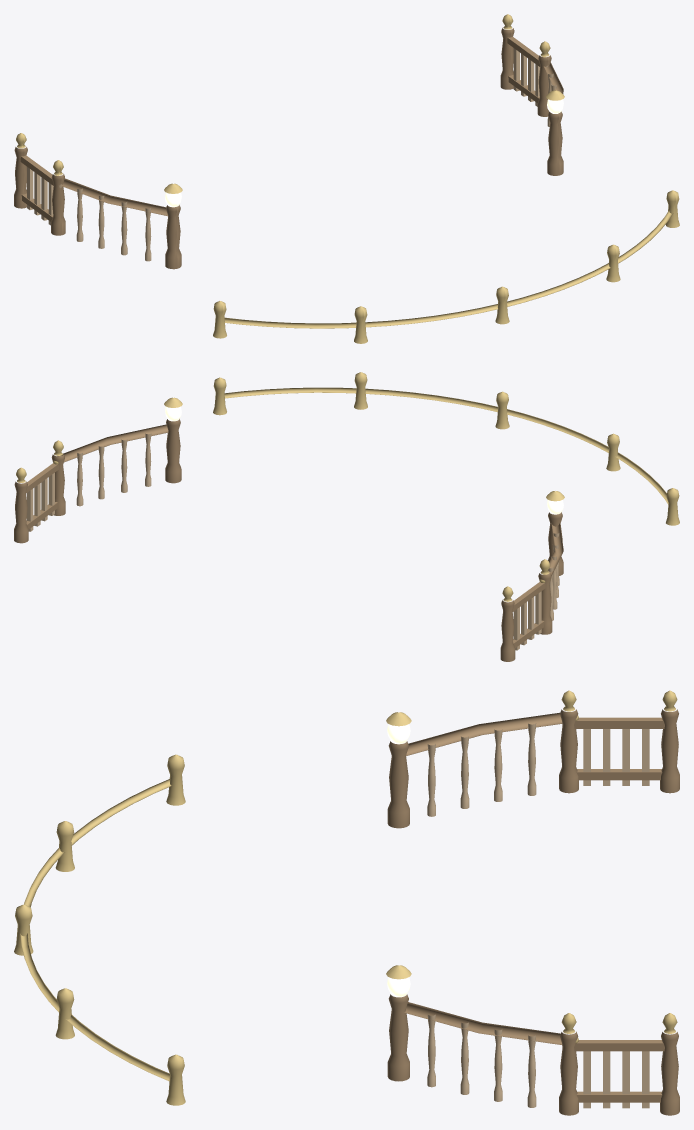
Rendered from atrium_balustrades.glb.
The picture shows the model from 3 angles, top to bottom: view 1: azimuth 30°, elevation 25°; view 2: azimuth 150°, elevation 25°; view 3: azimuth 270°, elevation 25°; orthographic projection. The views are drawn at different scales.
Parts seen in each view (by area): view 1: Atrium_Balustrades_Static, DoorPivot_door-memory, DoorPivot_door-switch; view 2: Atrium_Balustrades_Static, DoorPivot_door-switch, DoorPivot_door-memory; view 3: Atrium_Balustrades_Static, DoorPivot_door-switch, DoorPivot_door-memory, Atrium_Post_Lanterns.
Boxes of the visible parts, x1,y1,x2,y2 form: Atrium_Balustrades_Static: [14, 14, 679, 343]; DoorPivot_door-memory: [20, 155, 58, 225]; DoorPivot_door-switch: [507, 36, 545, 106]; Atrium_Balustrades_Static: [14, 372, 679, 661]; DoorPivot_door-switch: [26, 460, 58, 531]; DoorPivot_door-memory: [512, 579, 545, 650]; Atrium_Balustrades_Static: [14, 690, 679, 1115]; DoorPivot_door-switch: [574, 1038, 664, 1108]; DoorPivot_door-memory: [574, 715, 664, 785]; Atrium_Post_Lanterns: [387, 724, 410, 997].
Bounding box in the file's own units: 4.97 × 0.79 × 4.23.
